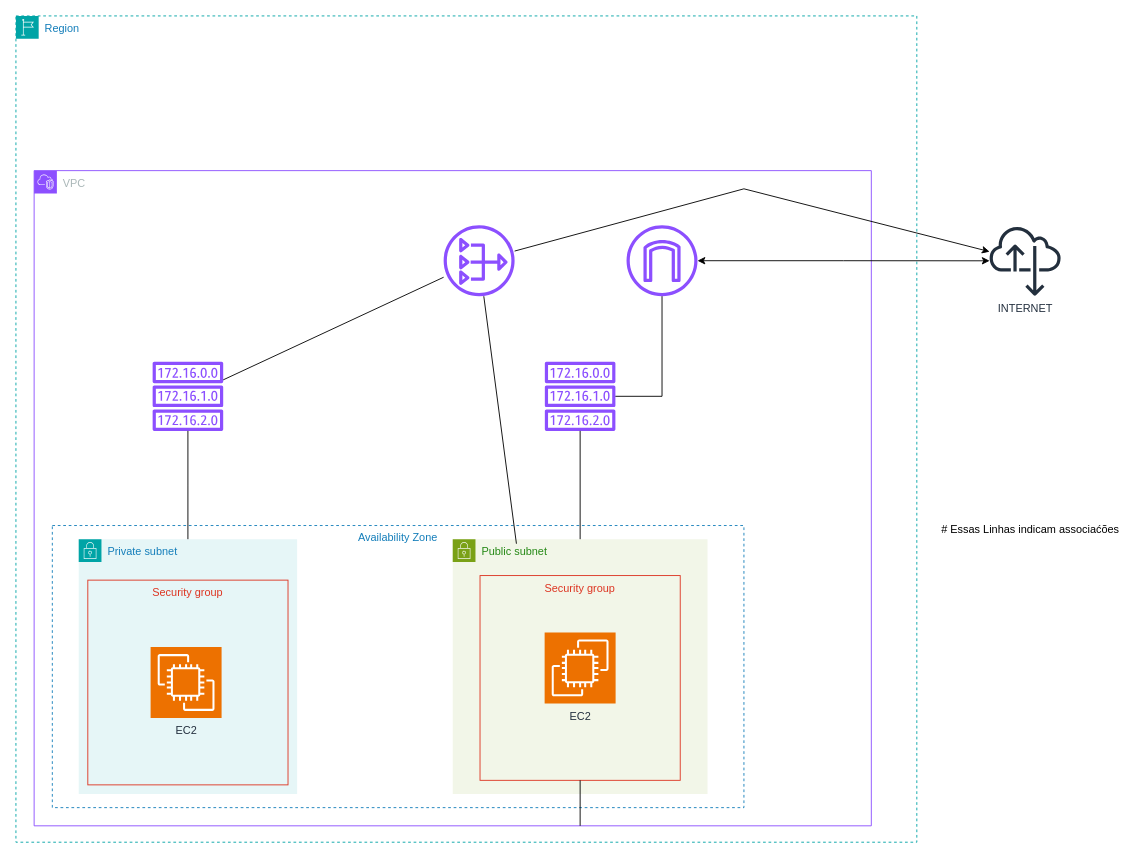
This 1142x858 diagram has some shape labels left out. Each missing label, with the centre of its shape:
Internet Gateway (Trafego de entrada e saida): pixel 661 260
NAT Gateway (Trafego só de saída): pixel 478 260
Route Table Private: pixel 187 395
Route Table Public: pixel 579 395
